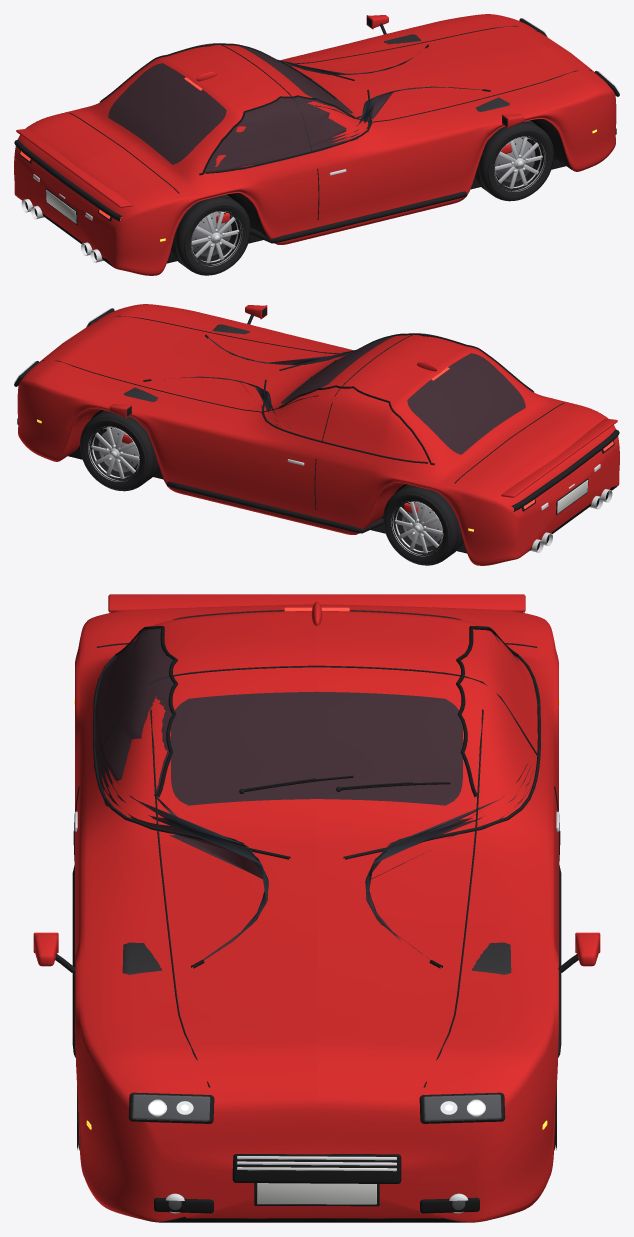
3 renders of one model, top to bottom at view 1: azimuth 30°, elevation 25°; view 2: azimuth 150°, elevation 25°; view 3: azimuth 270°, elevation 25°, orthographic. The views are drawn at different scales.
Visible parts, largest first — view 1: body, glass_side_R, glass_screen_1, wheel_RR_tyre, wheel_FR_tyre, side_skirt, wing_lip, glass_screen_0, tail_housing, wheel_RR_disc, wheel_FR_disc, dashboard (+8 smaller); view 2: body, glass_screen_1, wheel_RL_tyre, wheel_FL_tyre, side_skirt.001, wing_lip, glass_screen_0, tail_housing, wheel_RL_disc, wheel_FL_disc, glass_side_R, dashboard (+8 smaller); view 3: body, glass_screen_0, glass_side_R, wing_lip, grille_back, plate_front, head_housing.001, head_housing, dashboard, glass_side_L, head_lens, head_lens.001 (+6 smaller).
Part boxes in pixels (x1=…): body: x1=14, y1=14, x2=616, y2=275; glass_side_R: x1=204, y1=86, x2=482, y2=173; glass_screen_1: x1=108, y1=63, x2=226, y2=164; wheel_RR_tyre: x1=170, y1=194, x2=250, y2=275; wheel_FR_tyre: x1=474, y1=120, x2=553, y2=201; side_skirt: x1=250, y1=191, x2=467, y2=243; wing_lip: x1=16, y1=128, x2=132, y2=207; glass_screen_0: x1=241, y1=46, x2=352, y2=113; tail_housing: x1=14, y1=139, x2=122, y2=221; wheel_RR_disc: x1=192, y1=212, x2=231, y2=256; wheel_FR_disc: x1=495, y1=138, x2=535, y2=182; dashboard: x1=384, y1=34, x2=509, y2=111; body: x1=17, y1=304, x2=619, y2=565; glass_screen_1: x1=407, y1=353, x2=525, y2=454; wheel_RL_tyre: x1=383, y1=484, x2=463, y2=565; wheel_FL_tyre: x1=80, y1=410, x2=159, y2=491; side_skirt.001: x1=166, y1=481, x2=383, y2=533; wing_lip: x1=501, y1=418, x2=617, y2=497; glass_screen_0: x1=281, y1=336, x2=392, y2=403; tail_housing: x1=511, y1=429, x2=619, y2=511; wheel_RL_disc: x1=402, y1=502, x2=441, y2=546; wheel_FL_disc: x1=98, y1=428, x2=138, y2=472; glass_side_R: x1=208, y1=333, x2=437, y2=365; dashboard: x1=124, y1=324, x2=249, y2=401; body: x1=75, y1=604, x2=558, y2=1222; glass_screen_0: x1=170, y1=691, x2=463, y2=805; glass_side_R: x1=94, y1=628, x2=268, y2=960; wing_lip: x1=108, y1=594, x2=525, y2=612; grille_back: x1=232, y1=1154, x2=401, y2=1183; plate_front: x1=257, y1=1183, x2=376, y2=1204; head_housing.001: x1=419, y1=1092, x2=505, y2=1123; head_housing: x1=128, y1=1092, x2=214, y2=1123; dashboard: x1=122, y1=942, x2=511, y2=974; glass_side_L: x1=365, y1=630, x2=538, y2=959; head_lens: x1=132, y1=1094, x2=209, y2=1121; head_lens.001: x1=424, y1=1094, x2=501, y2=1121.
Bounding box in the file's own units: 4.82 × 1.3 × 2.27.
